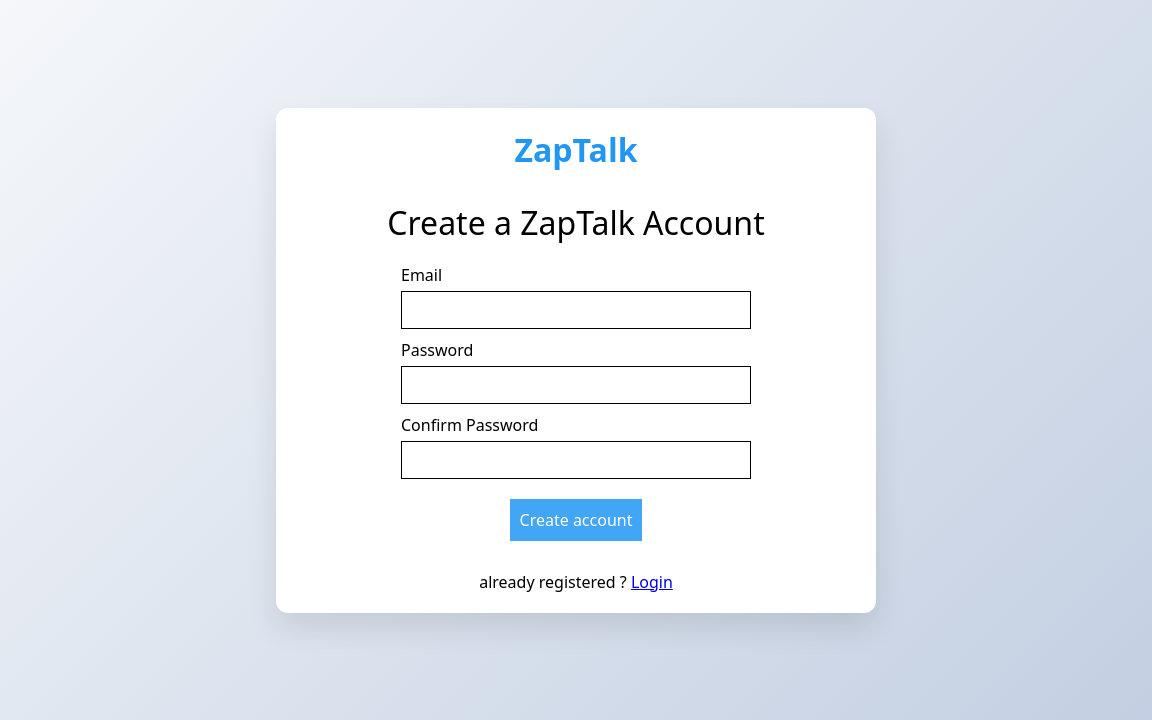
it: Signup Component › When submission fails › show error message
Type "test@test.com" into the field labelled "Email" at (576, 310), box [401, 290, 751, 328]
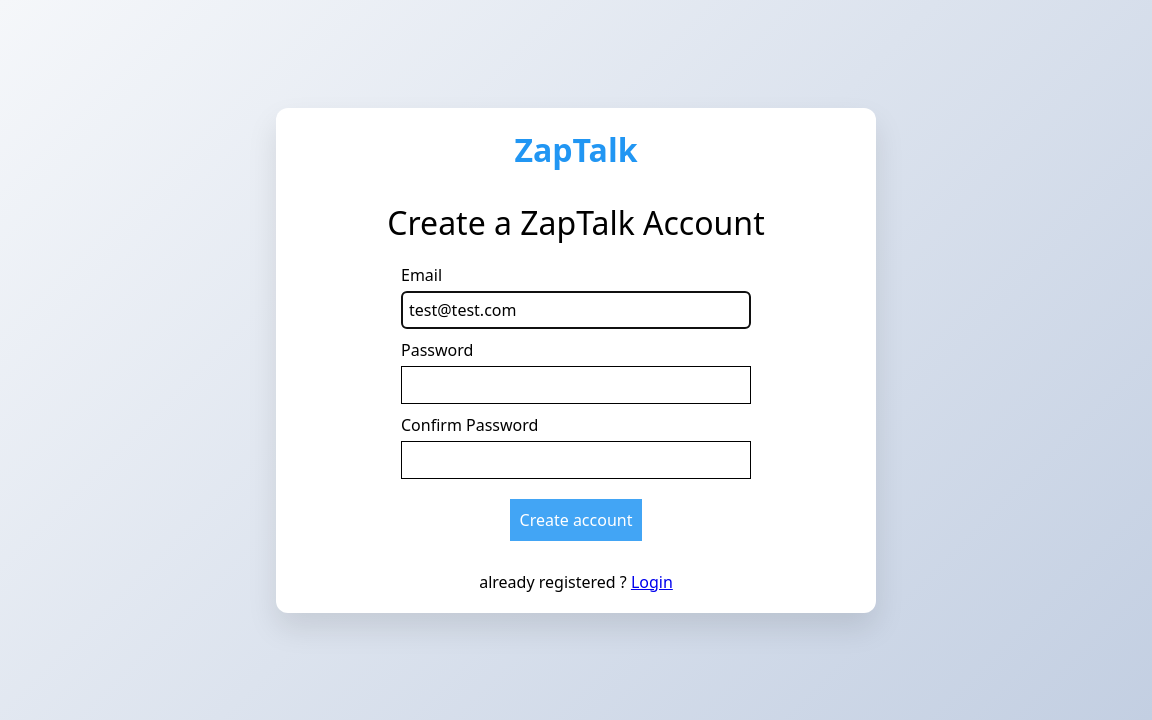
Type "777aaa" into the password field labelled "Password" at (576, 384), box [401, 366, 751, 404]
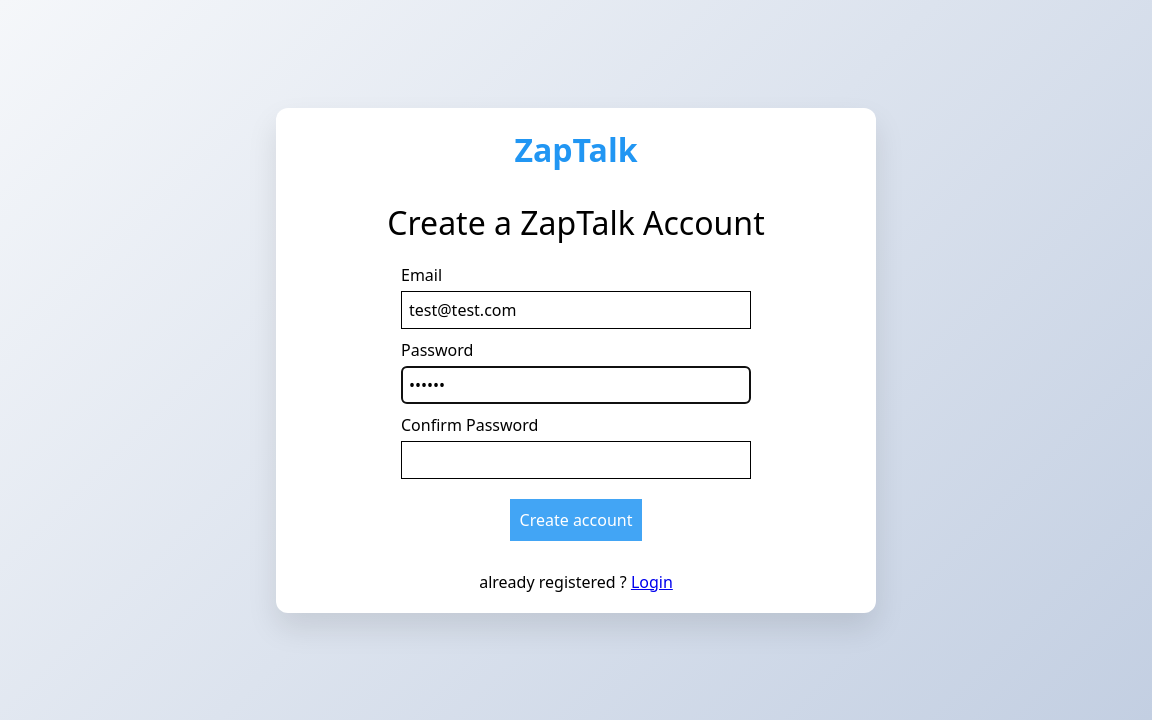
Type "777aaa" into the password field labelled "Confirm Password" at (576, 460), box [401, 440, 751, 478]
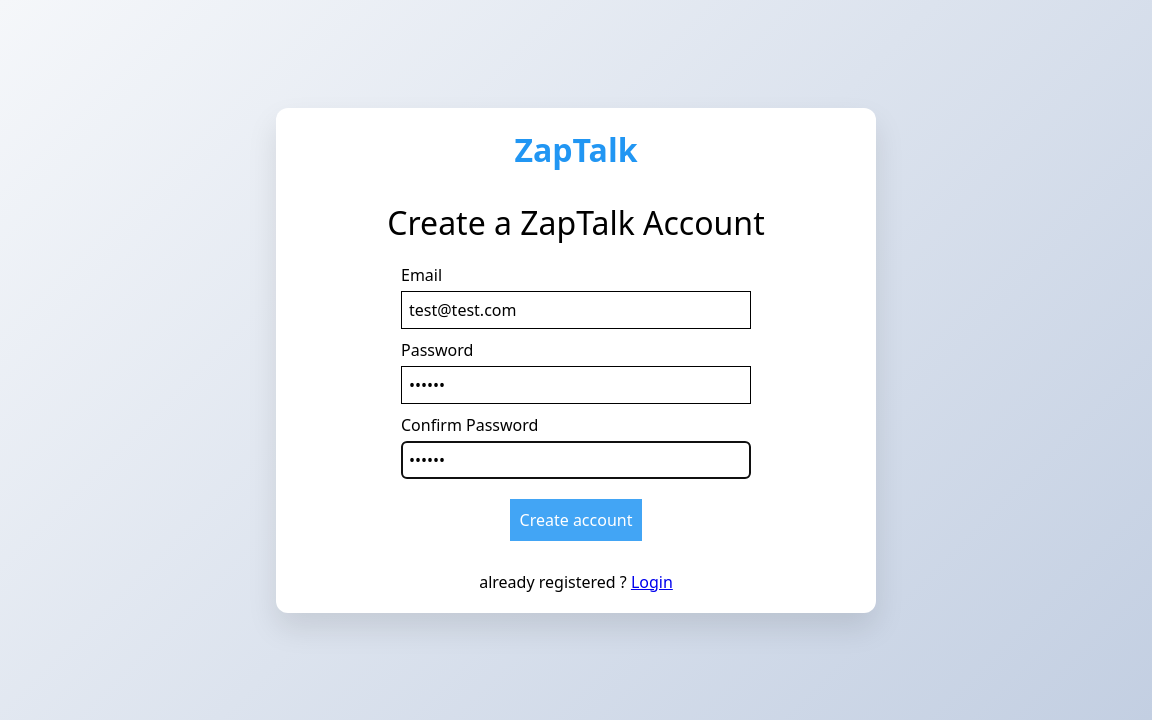
Click the button "Create account" at (576, 520), box [510, 498, 642, 540]
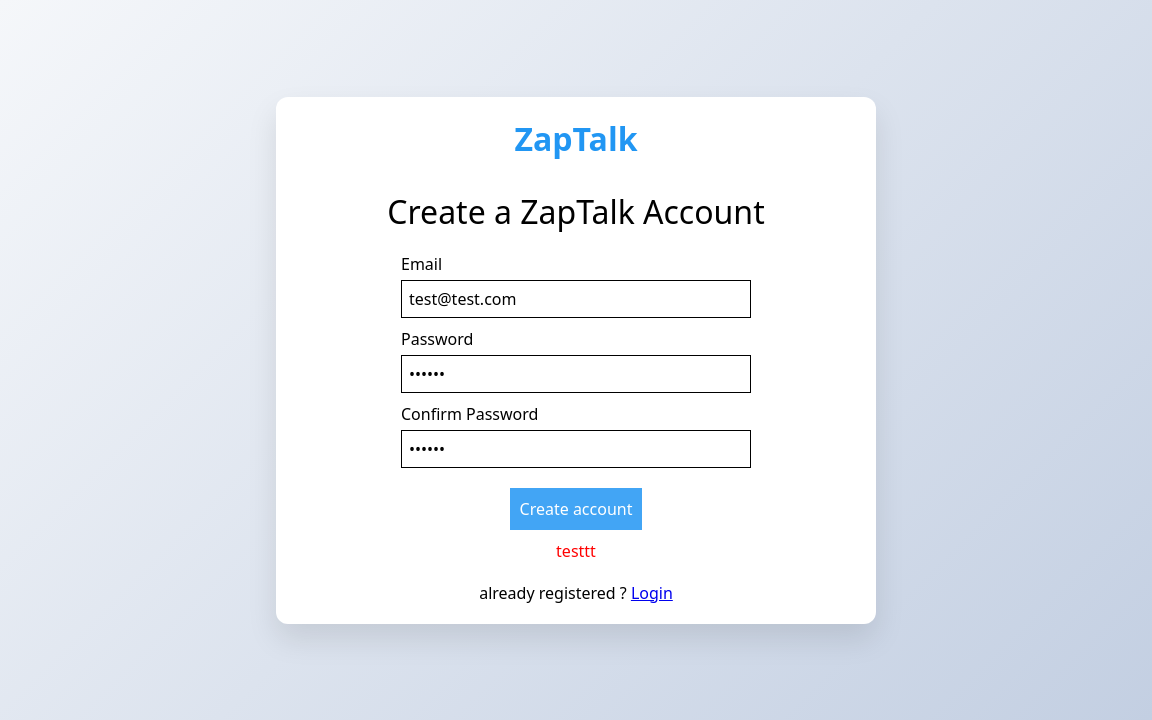
expect the text "testtt" is shown: met, box [556, 540, 596, 562]
